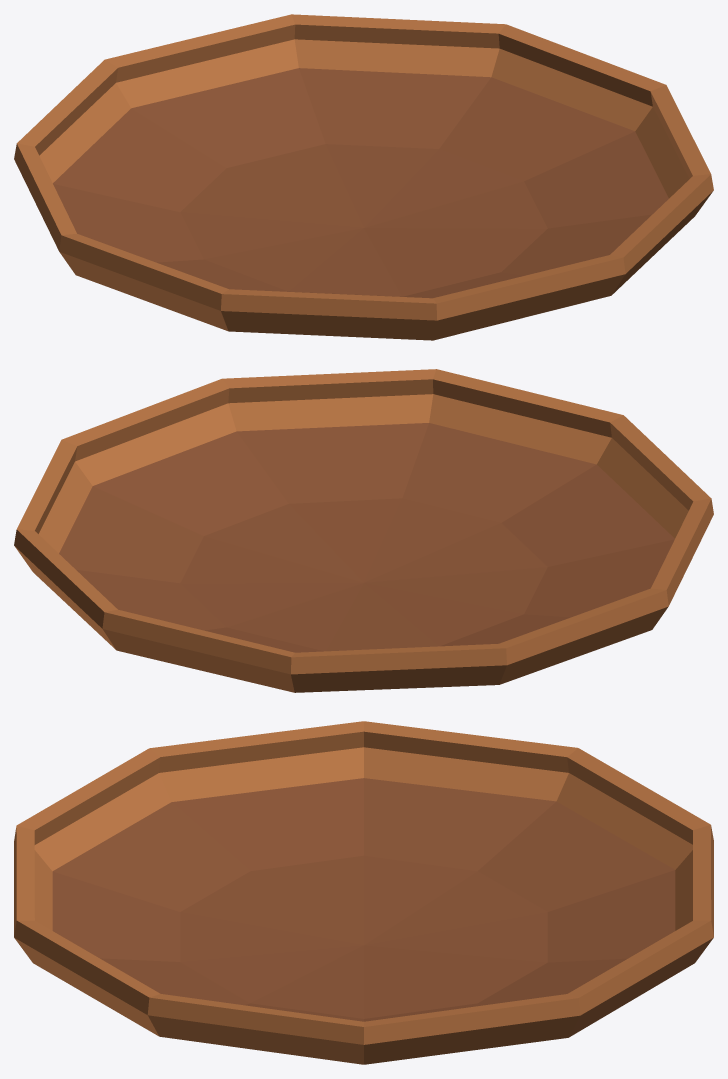
Rendered from SM_Prop_Copper_Plate_Large_01.fbx.
3 renders of one model, top to bottom at view 1: azimuth 30°, elevation 25°; view 2: azimuth 150°, elevation 25°; view 3: azimuth 270°, elevation 25°, orthographic. The views are drawn at different scales.
Visible parts, largest first — view 1: SM_Prop_Copper_Plate_Large_01; view 2: SM_Prop_Copper_Plate_Large_01; view 3: SM_Prop_Copper_Plate_Large_01.
Boxes of the visible parts, box(x1,y1,x2,y2) form: SM_Prop_Copper_Plate_Large_01: box(14, 14, 713, 340); SM_Prop_Copper_Plate_Large_01: box(14, 369, 713, 692); SM_Prop_Copper_Plate_Large_01: box(14, 721, 713, 1064).
Bounding box in the file's own units: 161 × 20.97 × 153.
